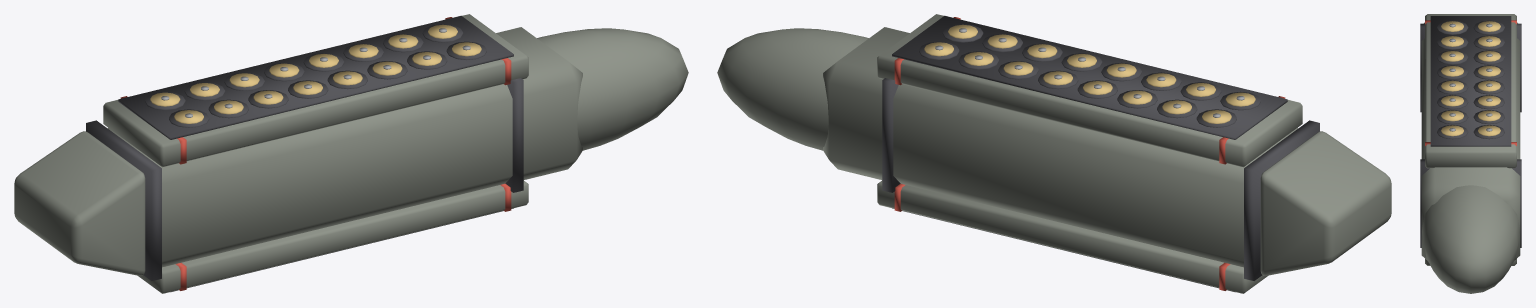
The model's file is flares_3.glb.
3 views of the same model, side by side, from view 1: azimuth 30°, elevation 25°; view 2: azimuth 150°, elevation 25°; view 3: azimuth 270°, elevation 25° (orthographic). The views are drawn at different scales.
Parts seen in each view (by area): view 1: flares_3; view 2: flares_3; view 3: flares_3.
Part boxes in pixels (x1,y1,x2,y2): flares_3: (14, 14, 688, 293); flares_3: (717, 14, 1391, 293); flares_3: (1420, 14, 1521, 293).
Bounding box in the file's own units: 0.87 × 0.211 × 0.154.
